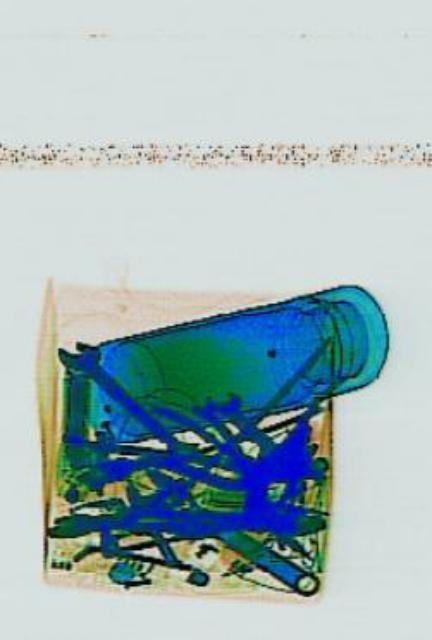Wrench: (116, 450, 324, 612), (51, 317, 198, 477), (195, 370, 275, 468), (43, 505, 124, 537)
